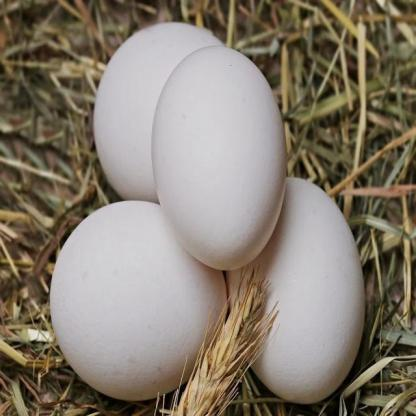egg: (28, 183, 246, 403), (227, 132, 386, 414), (152, 41, 296, 288), (72, 7, 235, 196)
